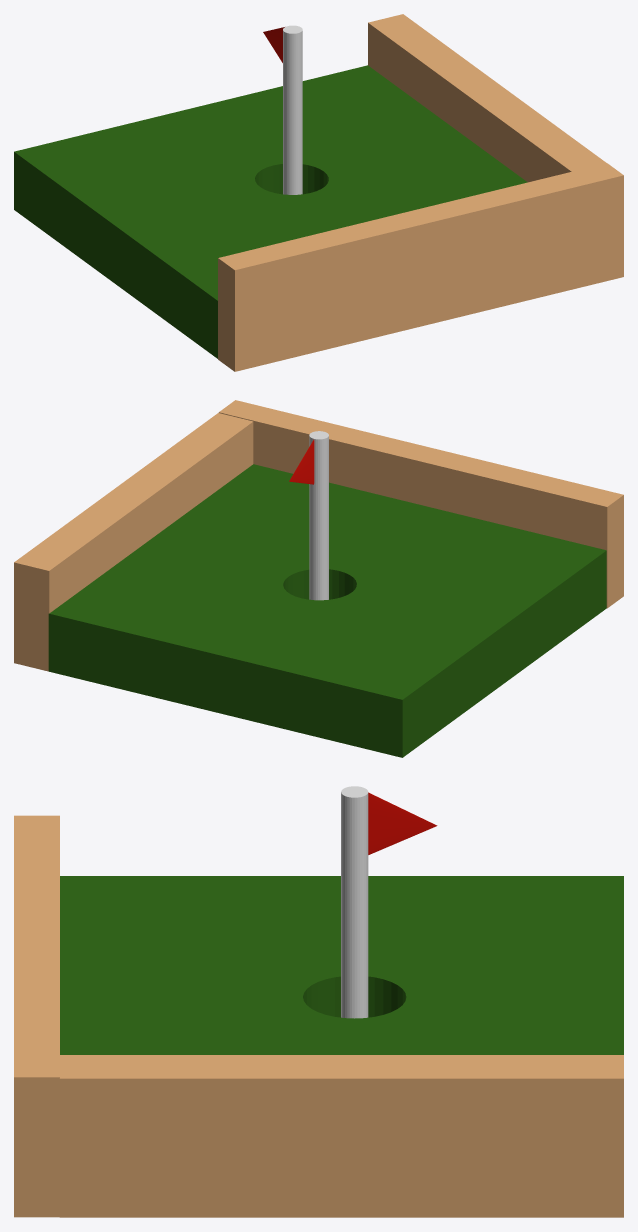
Rendered from TestCornerfix3Flag.fbx.
The picture shows the model from 3 angles, top to bottom: view 1: azimuth 30°, elevation 25°; view 2: azimuth 150°, elevation 25°; view 3: azimuth 270°, elevation 25°; orthographic projection. The views are drawn at different scales.
Visible parts, largest first — view 1: Cube.033, Cube.034, Pole.004; view 2: Cube.033, Cube.034, Pole.004, flag.004; view 3: Cube.034, Cube.033, Pole.004, flag.004.
Part boxes in pixels (x1=…): Cube.033: x1=14, y1=65, x2=527, y2=358; Cube.034: x1=218, y1=14, x2=623, y2=371; Pole.004: x1=283, y1=25, x2=302, y2=194; Cube.033: x1=48, y1=464, x2=606, y2=757; Cube.034: x1=14, y1=400, x2=623, y2=671; Pole.004: x1=309, y1=431, x2=328, y2=600; flag.004: x1=289, y1=439, x2=314, y2=484; Cube.034: x1=14, y1=815, x2=623, y2=1217; Cube.033: x1=60, y1=876, x2=623, y2=1054; Pole.004: x1=341, y1=786, x2=368, y2=1018; flag.004: x1=368, y1=792, x2=437, y2=854.
Bounding box in the file's own units: 168 × 85.71 × 166.
